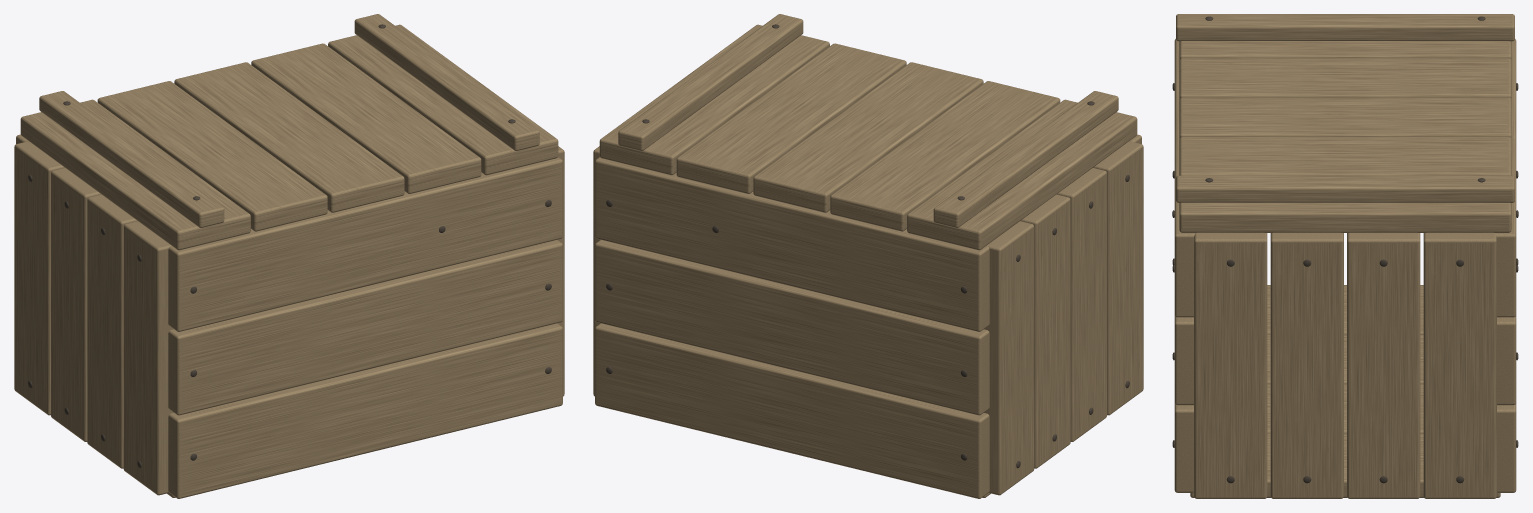
The model's file is wooden_box.fbx.
The picture shows the model from 3 angles, left to right: view 1: azimuth 30°, elevation 25°; view 2: azimuth 150°, elevation 25°; view 3: azimuth 270°, elevation 25°; orthographic projection. The views are drawn at different scales.
Visible parts, largest first — view 1: Front horizontal plank 0, Front horizontal plank 1, Front horizontal plank 2, Lid plank 2, Lid plank 3, Lid plank 1, Left vertical plank 0, Lid plank 0, Left vertical plank 3, Left vertical plank 2, Left vertical plank 1, Lid plank 4 (+3 smaller); view 2: Back horizontal plank 0, Back horizontal plank 1, Back horizontal plank 2, Lid plank 2, Lid plank 3, Lid plank 1, Left vertical plank 3, Lid plank 0, Left vertical plank 0, Left vertical plank 1, Left vertical plank 2, Lid plank 4 (+3 smaller); view 3: Right vertical plank 0, Right vertical plank 3, Right vertical plank 1, Right vertical plank 2, Lid plank 2, Lid plank 1, Lid plank 3, Lid plank 4, Lid cross brace.001, Lid cross brace, Lid plank 0, Back horizontal plank 2 (+9 smaller).
Boxes of the visible parts, x1,y1,x2,y2 form: Front horizontal plank 0: (168,323,562,498); Front horizontal plank 1: (168,240,562,415); Front horizontal plank 2: (168,157,562,331); Lid plank 2: (174,62,404,212); Lid plank 3: (251,43,481,193); Lid plank 1: (97,81,327,231); Left vertical plank 0: (123,221,173,495); Lid plank 0: (20,99,250,250); Left vertical plank 3: (14,141,64,415); Left vertical plank 2: (51,168,100,441); Left vertical plank 1: (87,194,137,468); Lid plank 4: (328,24,558,175); Back horizontal plank 0: (595,323,989,498); Back horizontal plank 1: (595,240,989,415); Back horizontal plank 2: (595,157,989,331); Lid plank 2: (753,62,983,212); Lid plank 3: (676,43,906,193); Lid plank 1: (830,81,1060,231); Left vertical plank 3: (984,221,1034,495); Lid plank 0: (907,99,1137,250); Left vertical plank 0: (1093,141,1143,415); Left vertical plank 1: (1057,168,1106,441); Left vertical plank 2: (1020,194,1070,468); Lid plank 4: (599,24,829,175); Right vertical plank 0: (1194,232,1267,498); Right vertical plank 3: (1423,232,1496,498); Right vertical plank 1: (1270,232,1343,498); Right vertical plank 2: (1347,232,1420,498); Lid plank 2: (1179,97,1511,139); Lid plank 1: (1179,58,1511,99); Lid plank 3: (1179,137,1511,175); Lid plank 4: (1179,202,1511,232); Lid cross brace.001: (1176,175,1514,202); Lid cross brace: (1176,14,1514,41); Lid plank 0: (1179,41,1511,60); Back horizontal plank 2: (1495,39,1516,317).
Bounding box in the file's own units: 209 × 140 × 145.
Materials: 4 (3 with a texture image).
